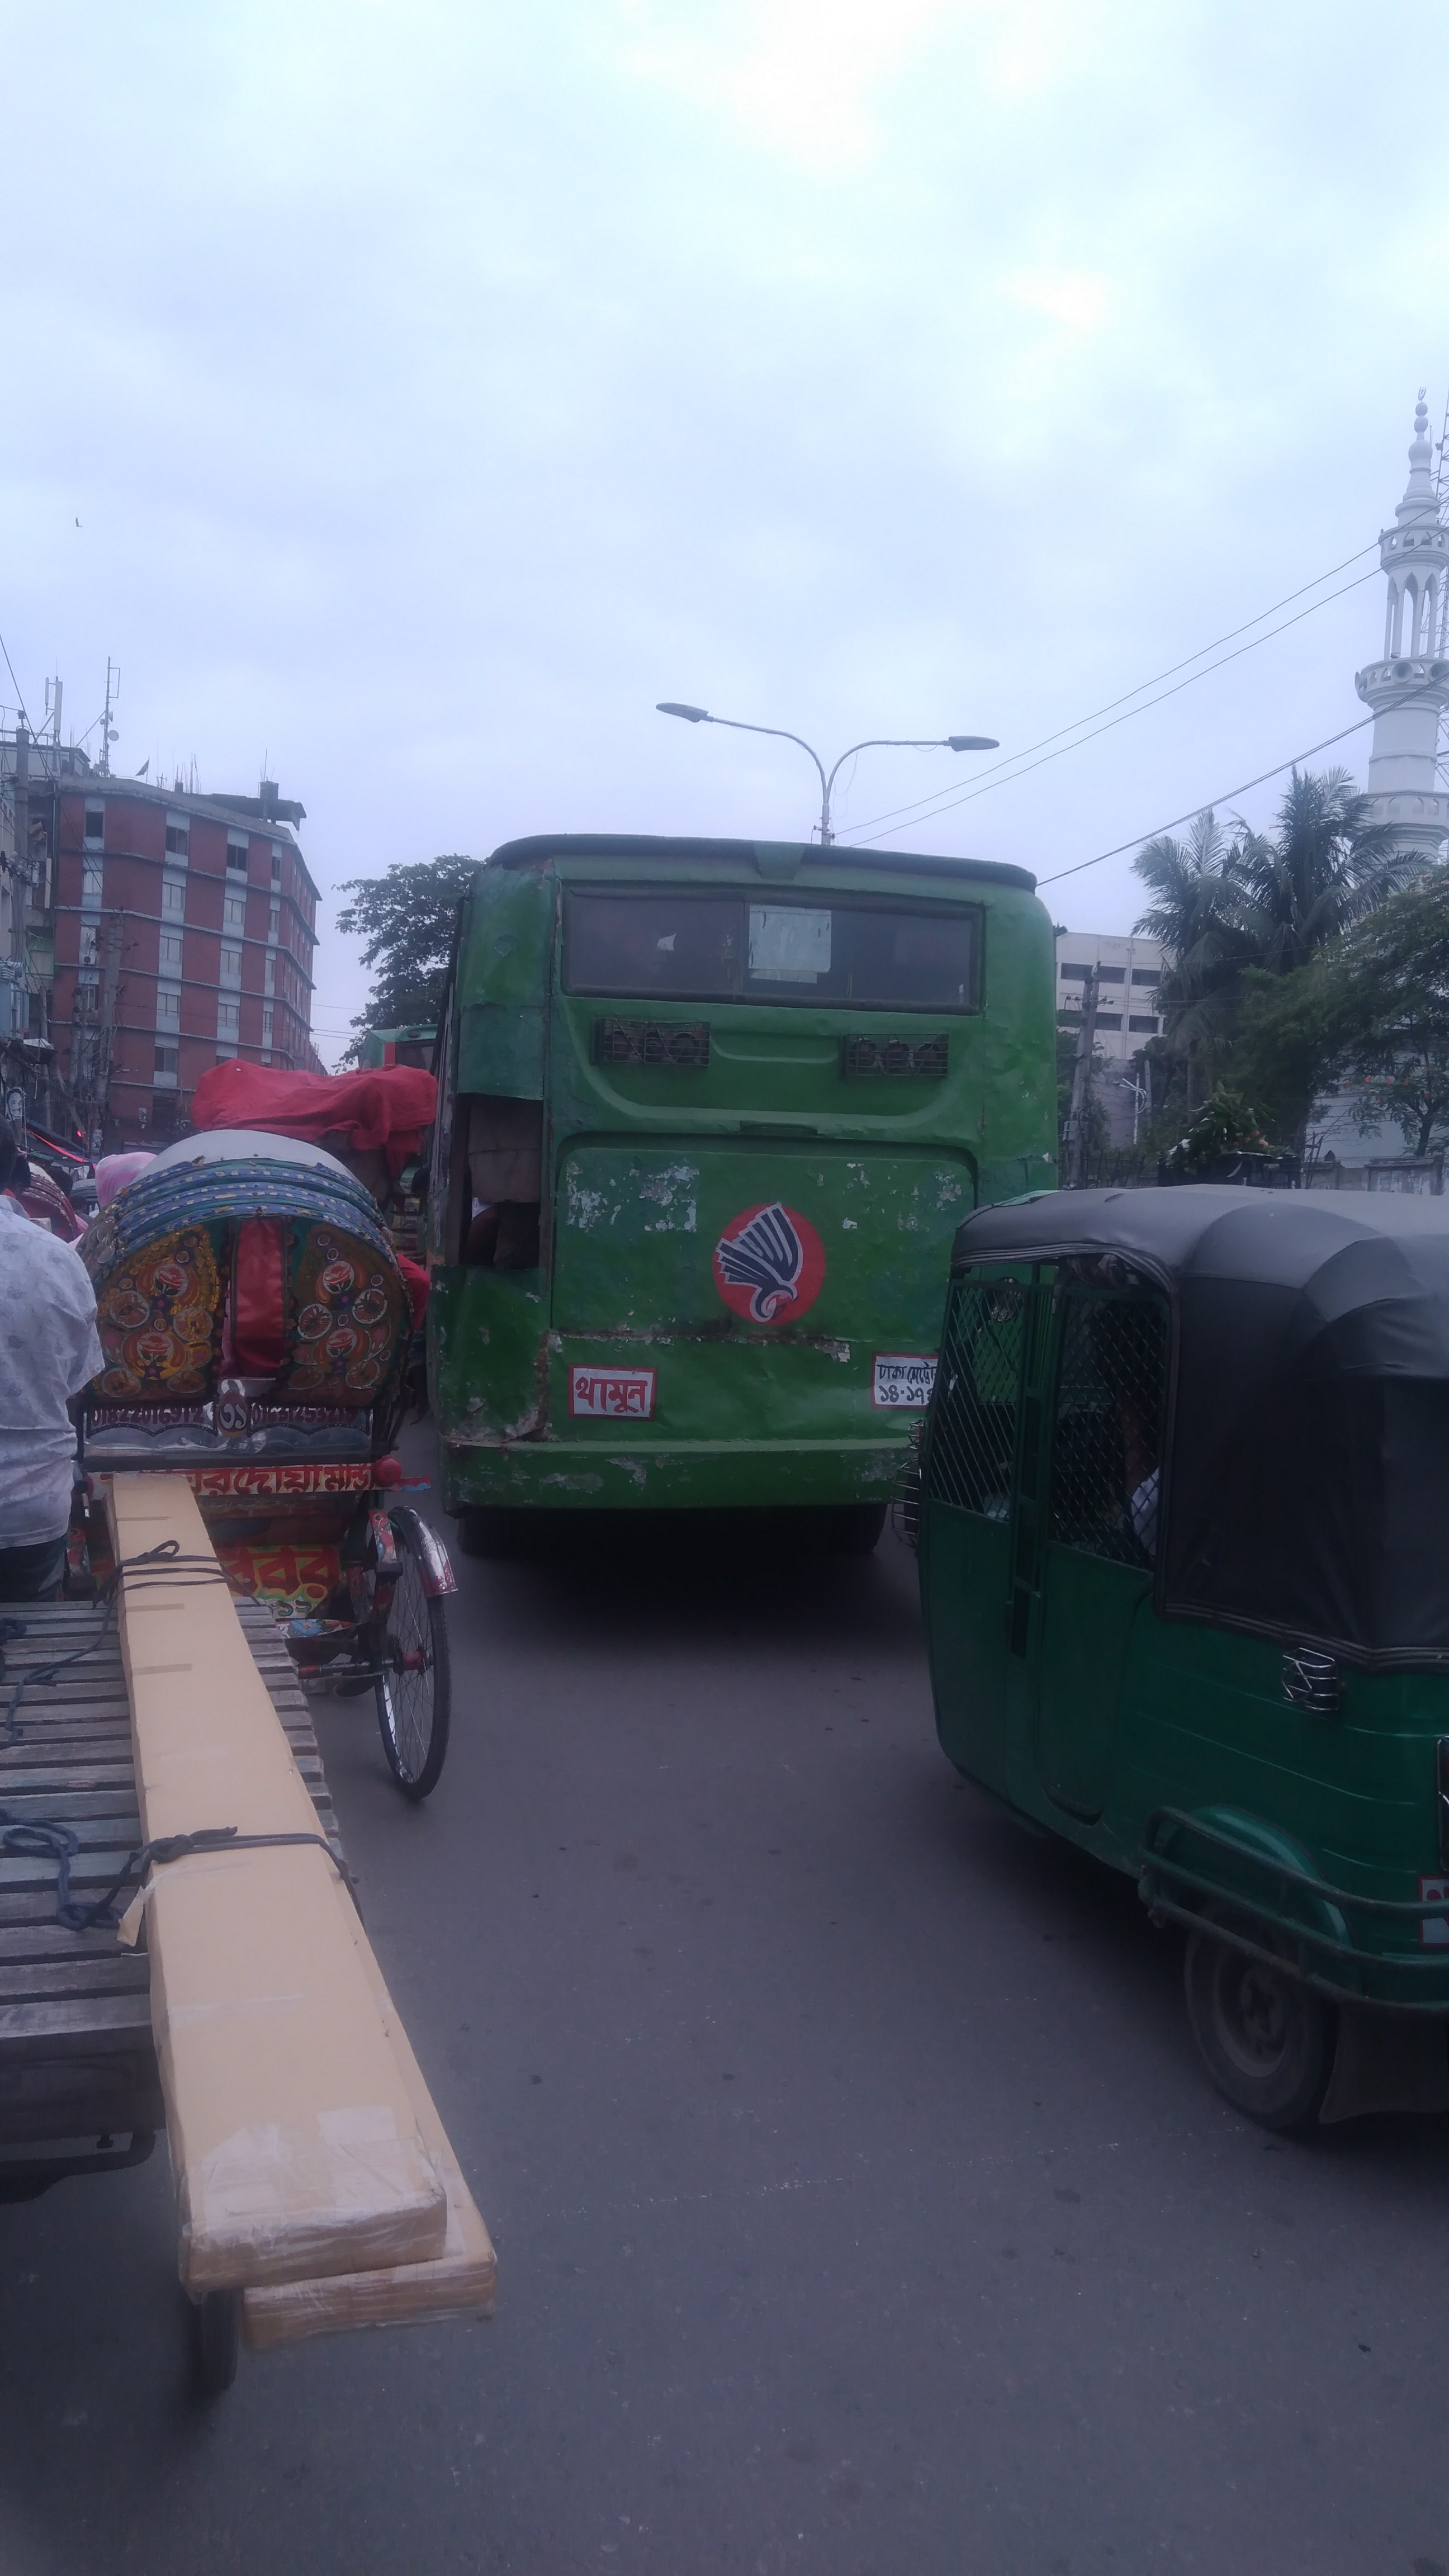bus: (423, 826, 1088, 1583)
cng: (931, 1178, 1449, 2150)
rickshaw: (65, 1111, 497, 1911)
van: (4, 1568, 391, 2406)
